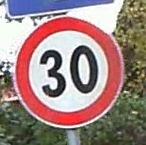limite 30: (13, 15, 125, 127)
